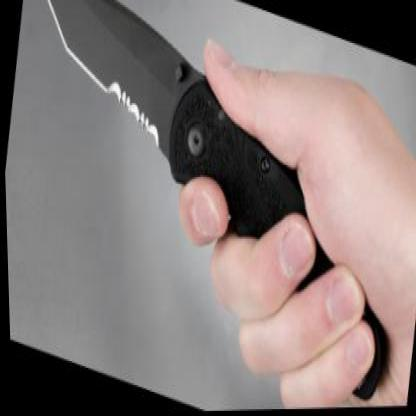knife: (1, 0, 341, 311)
